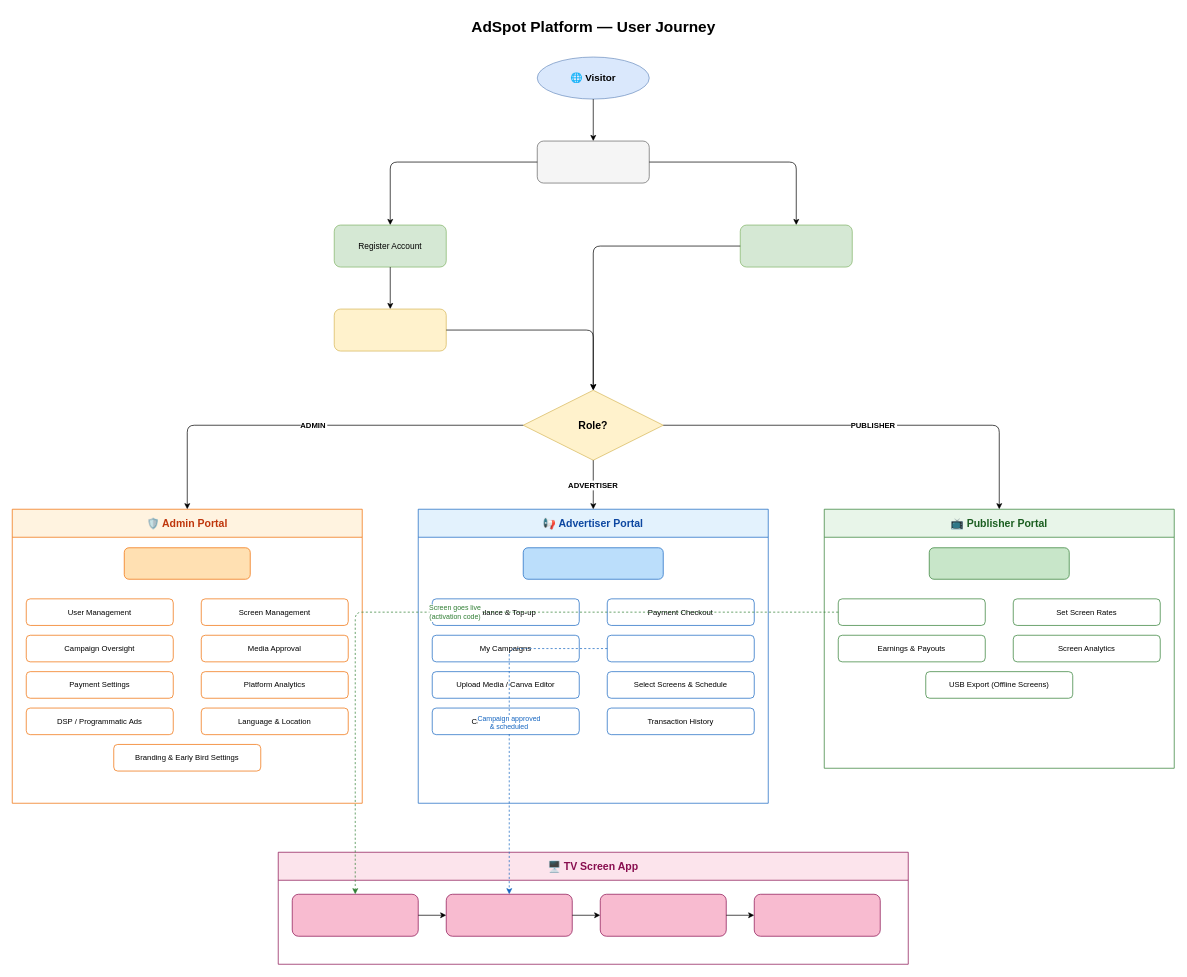
The diagram is 1187 pixels wide and 977 high, and some of its shapes have lost their labels. Here are the shapes that lost their labels. From the top down, the centre of each, then its label:
At pixel 593 161: "Landing Page".
At pixel 796 245: "Login".
At pixel 390 329: "Email Verification".
At pixel 187 563: "Admin Dashboard".
At pixel 593 563: "Advertiser Dashboard".
At pixel 999 563: "Publisher Dashboard".
At pixel 911 611: "Register Screens".
At pixel 680 648: "Create Campaign".
At pixel 355 915: "Heartbeat Check-in (60s)".
At pixel 509 915: "Fetch Active Campaigns".
At pixel 663 915: "Play Ad Creatives".
At pixel 817 915: "Sync View Analytics".
